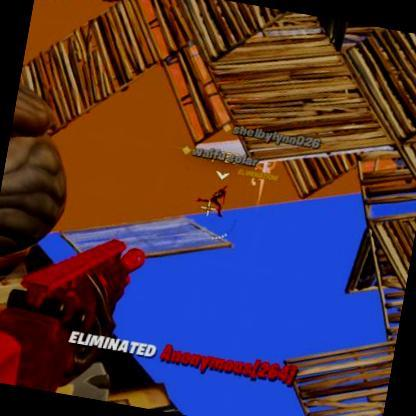person: (197, 179, 228, 214)
